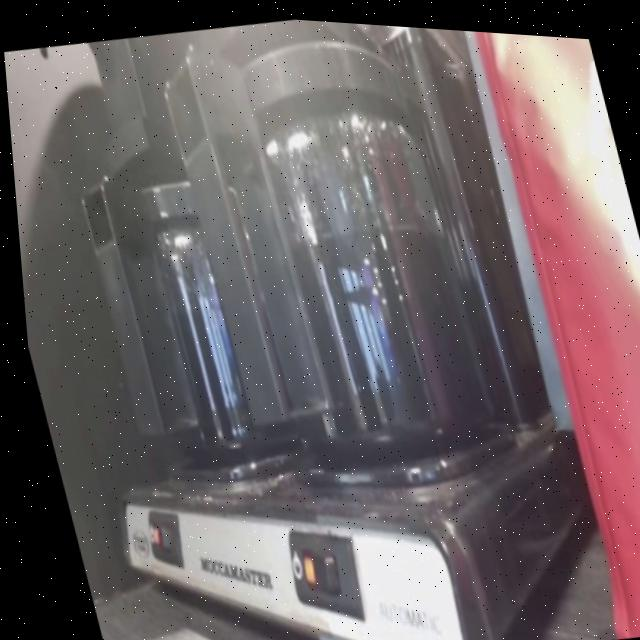coffee: (236, 130, 481, 452), (137, 231, 302, 473)
